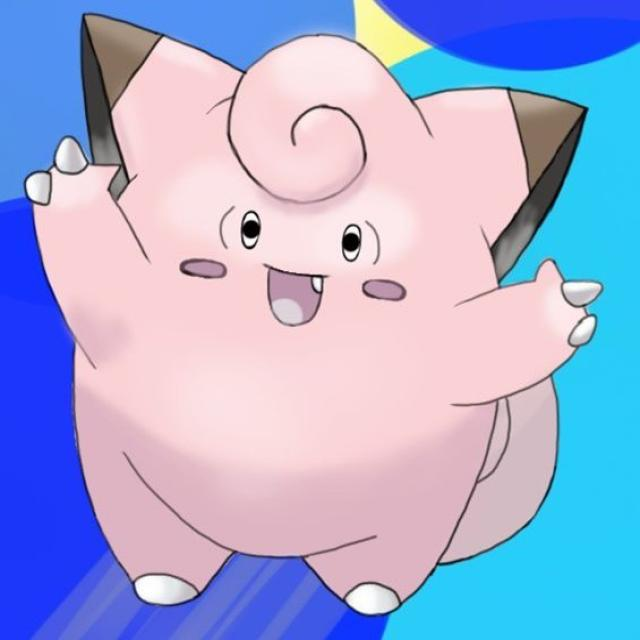Clefairy: (46, 36, 584, 609)
